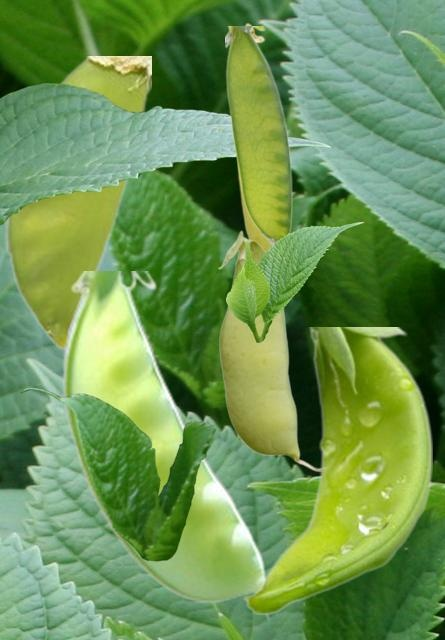pea: (61, 271, 269, 621), (242, 327, 431, 613), (5, 56, 150, 348), (217, 230, 325, 471), (225, 26, 293, 244), (236, 22, 270, 249)
